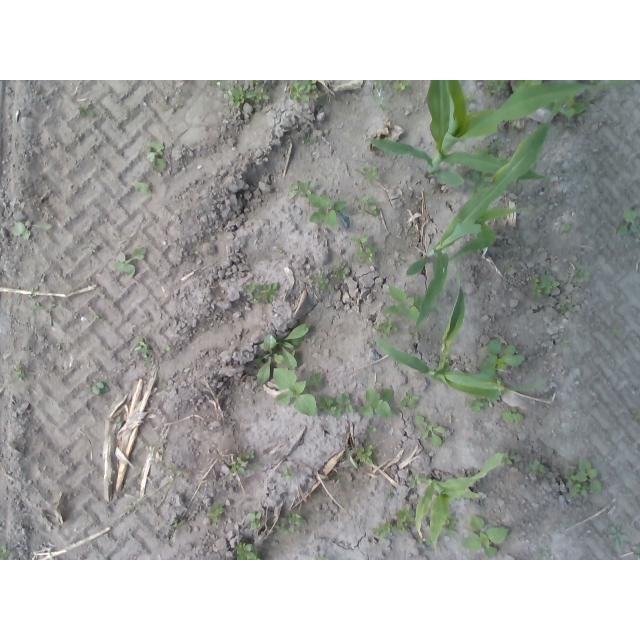Maize: (407, 95, 567, 336), (368, 81, 632, 188), (375, 269, 550, 400), (413, 453, 503, 553)
Weeds: (254, 323, 310, 385), (271, 366, 321, 418), (459, 516, 509, 559), (478, 340, 527, 377), (383, 285, 425, 321), (566, 460, 603, 497), (308, 191, 348, 225), (228, 80, 271, 108), (545, 95, 592, 118), (360, 387, 393, 418), (415, 416, 446, 448), (114, 249, 147, 277), (319, 393, 353, 419), (529, 274, 560, 301), (351, 233, 378, 263), (245, 282, 279, 305), (11, 221, 53, 239), (467, 168, 493, 197), (275, 511, 307, 534), (230, 450, 259, 475), (289, 80, 319, 101), (617, 209, 640, 236), (148, 140, 167, 172), (347, 445, 373, 468), (393, 507, 415, 534), (468, 394, 501, 412), (471, 140, 501, 159), (356, 195, 379, 218), (607, 526, 629, 549), (373, 318, 398, 338), (136, 337, 153, 366), (396, 390, 420, 410), (290, 180, 314, 199), (237, 542, 262, 560), (355, 165, 379, 183), (439, 513, 458, 535), (307, 272, 329, 291), (484, 80, 508, 96), (528, 459, 549, 477), (501, 406, 524, 422), (31, 297, 57, 311), (375, 522, 393, 542), (498, 450, 520, 466), (409, 473, 432, 487), (132, 181, 153, 195), (209, 503, 225, 521), (392, 80, 410, 96), (561, 301, 580, 316), (90, 381, 109, 396), (573, 268, 590, 284), (333, 265, 350, 280), (395, 247, 409, 265), (249, 511, 263, 529), (513, 80, 544, 88), (77, 104, 96, 117), (1, 542, 12, 560), (299, 133, 313, 147), (14, 367, 27, 381), (280, 468, 293, 481), (211, 81, 226, 92), (630, 409, 640, 421), (173, 519, 185, 529), (561, 222, 571, 233), (374, 80, 384, 90), (115, 416, 122, 429), (367, 425, 377, 434), (464, 92, 473, 100), (424, 536, 432, 545), (315, 556, 329, 561), (610, 328, 619, 335), (560, 340, 568, 347), (539, 551, 548, 557), (636, 545, 640, 558), (380, 103, 387, 110), (588, 80, 600, 84), (92, 313, 100, 319)
